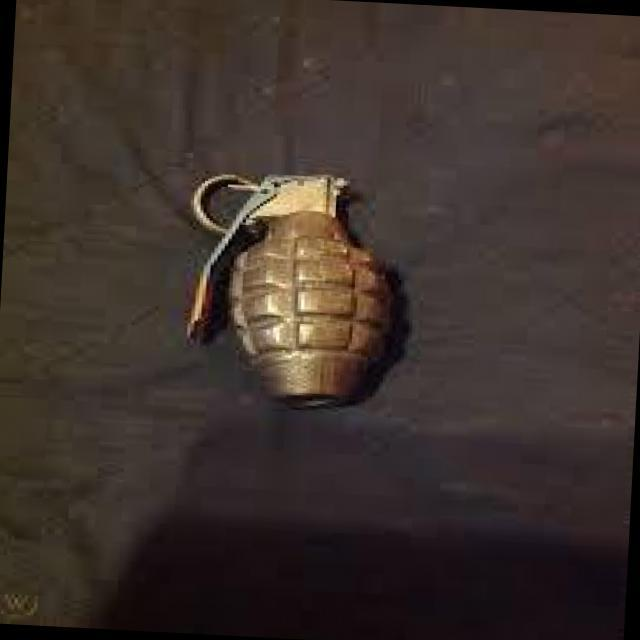grenade: (185, 144, 406, 426)
